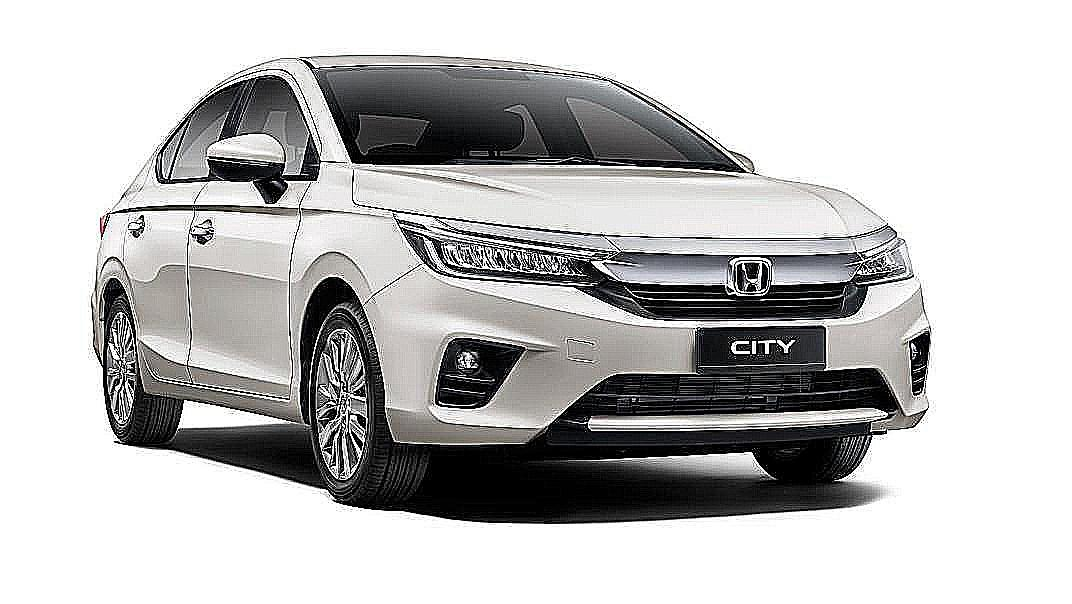Car hood: (349, 159, 891, 244)
Driver-s door - -F-R-: (181, 45, 322, 440)
Fender - -F-R-: (279, 158, 426, 427)
Fender - -R-R-: (85, 143, 152, 367)
Front bumper: (354, 264, 935, 461)
Headlight - -L-: (847, 232, 923, 284)
Headlight - -R-: (392, 209, 626, 292)
Passenger-s door - -R-R-: (114, 43, 255, 440)
Side bumper - -R-: (132, 348, 314, 439)
Side mirror - -R-: (206, 131, 290, 203)
